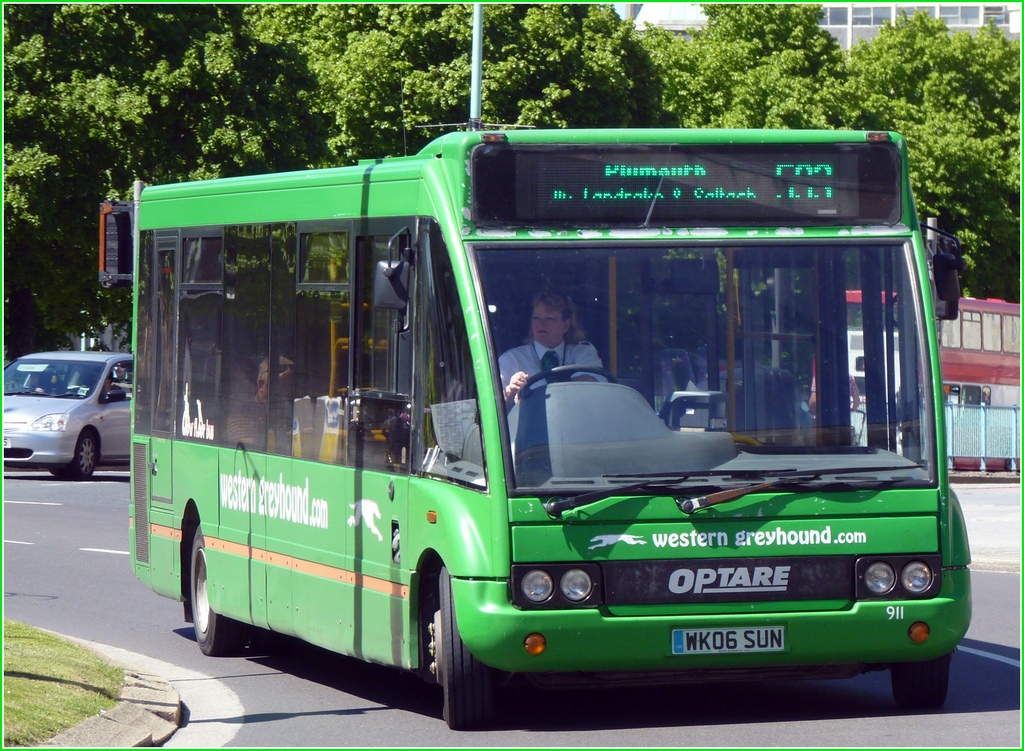car: (1, 319, 166, 484)
truck: (100, 93, 984, 718)
